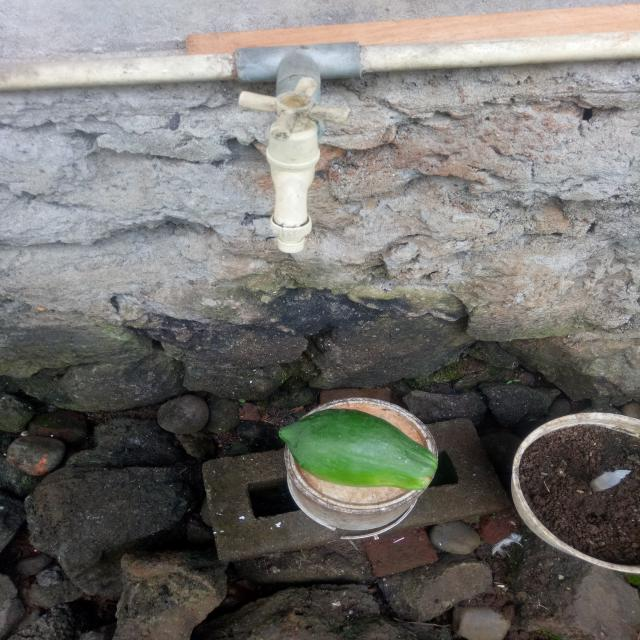Pepaya unrippen: (271, 408, 444, 498)
